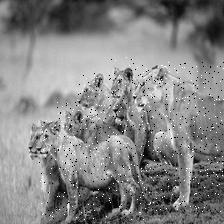Lion: (131, 62, 224, 212), (38, 120, 143, 220), (56, 102, 117, 147), (107, 56, 137, 112), (77, 73, 112, 112)
